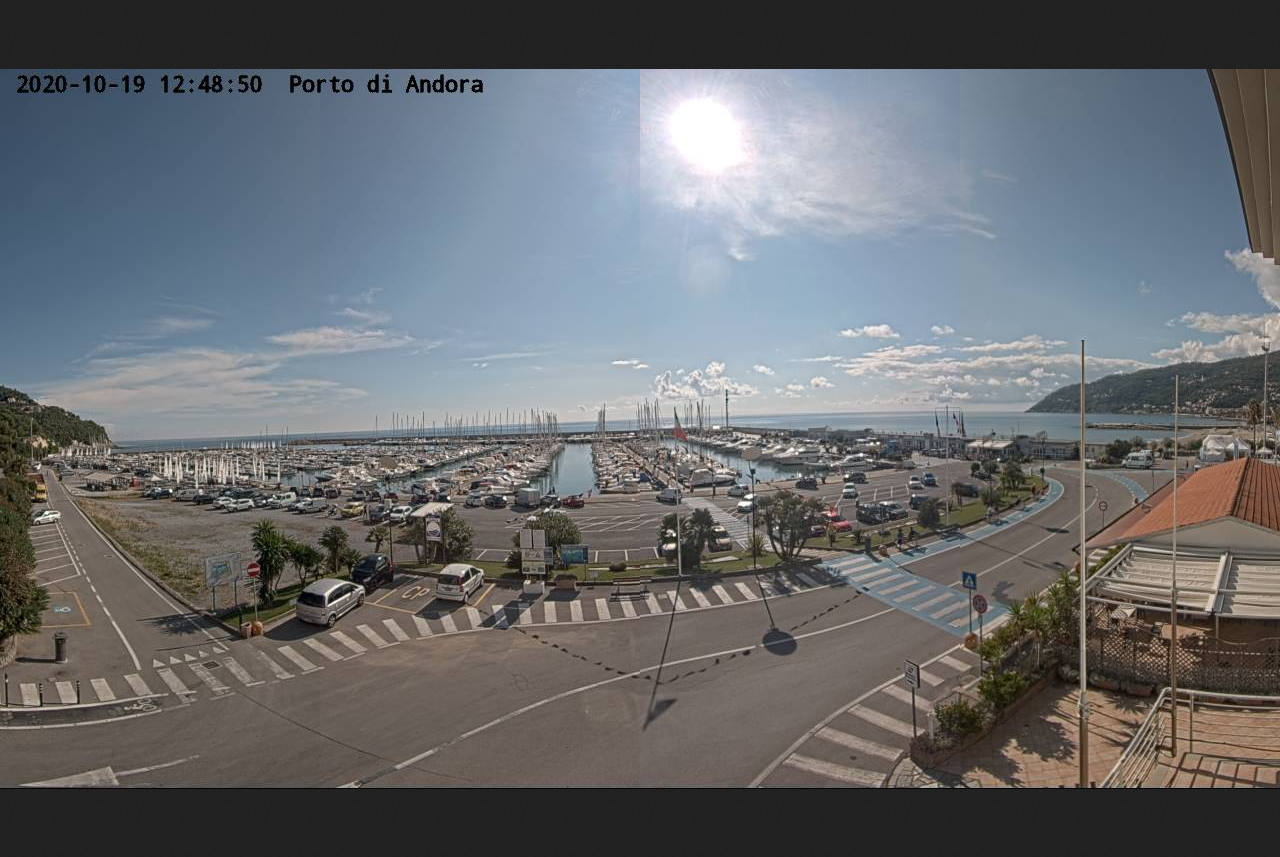no: (672, 405, 693, 445)
